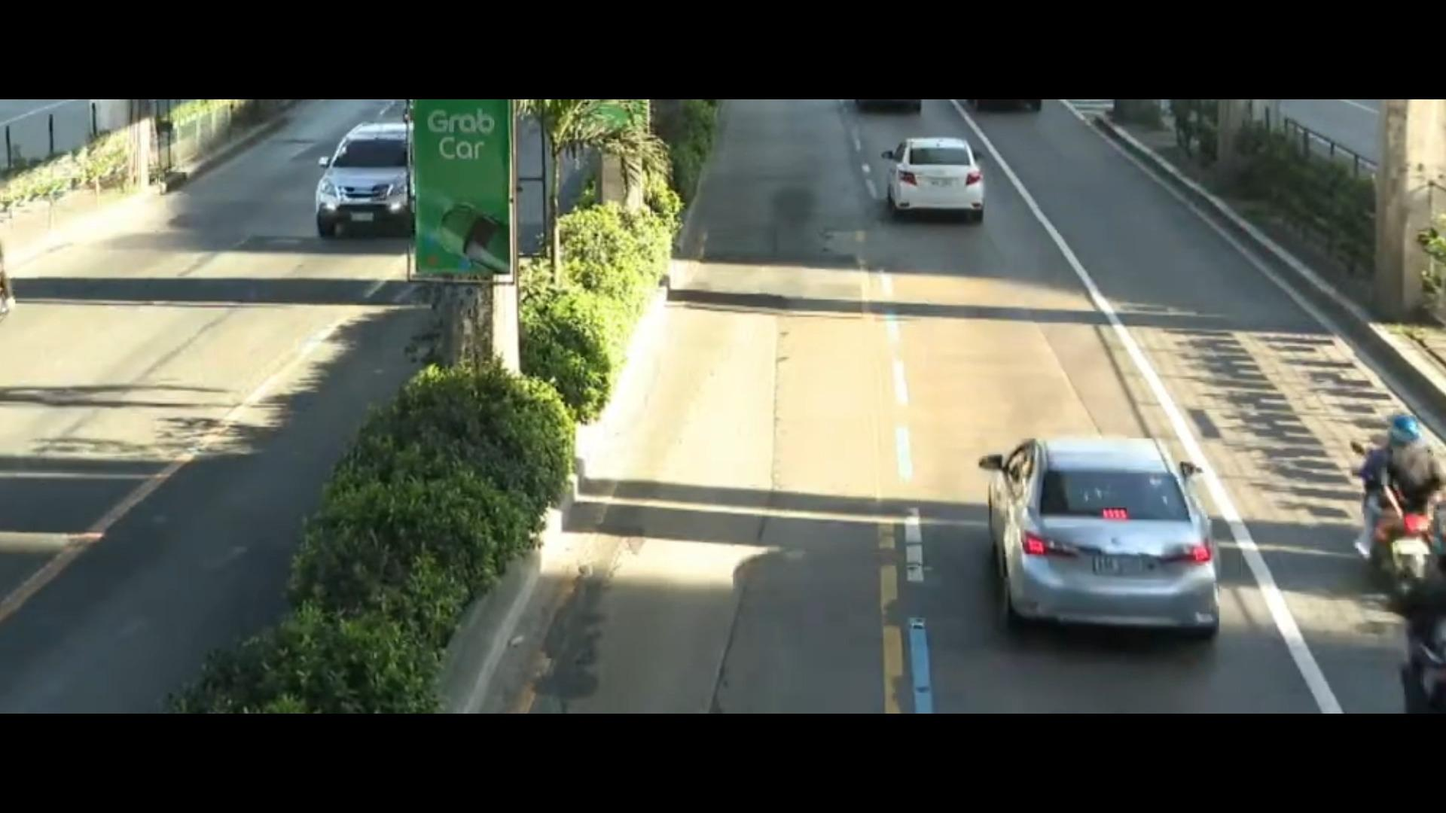Motorcycle: (1364, 381, 1446, 553), (1384, 512, 1446, 708)
SUV: (299, 111, 416, 243)
Sedan: (925, 413, 1245, 636), (873, 128, 996, 241)
